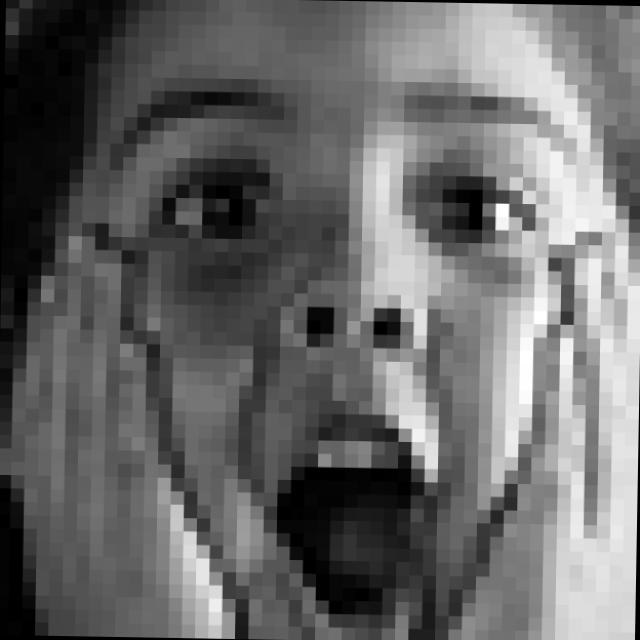surprise: (96, 67, 578, 640)
